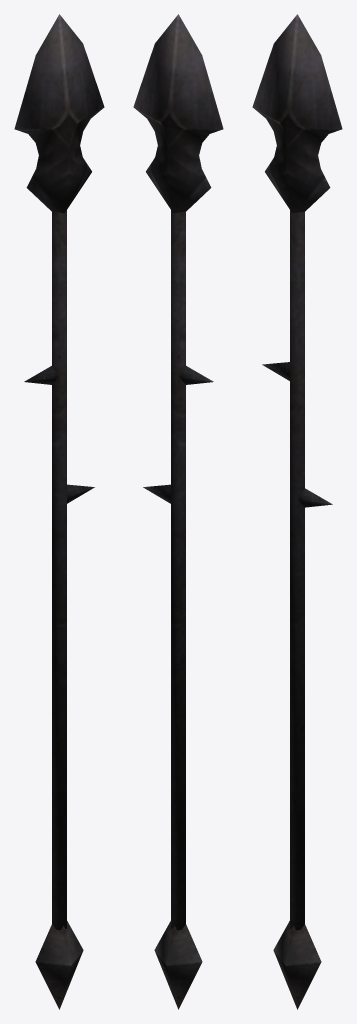
The model's file is ttt_biaoqiang.FBX.
3 renders of one model, left to right at view 1: azimuth 30°, elevation 25°; view 2: azimuth 150°, elevation 25°; view 3: azimuth 330°, elevation 25°, orthographic.
Parts seen in each view (by area): view 1: dmx_wj_03; view 2: dmx_wj_03; view 3: dmx_wj_03.
Boxes of the visible parts, <box> form: dmx_wj_03: <box>14,14,104,1009</box>; dmx_wj_03: <box>133,14,223,1009</box>; dmx_wj_03: <box>252,14,342,1009</box>.
Bounding box in the file's own units: 10.36 × 109 × 4.71.
